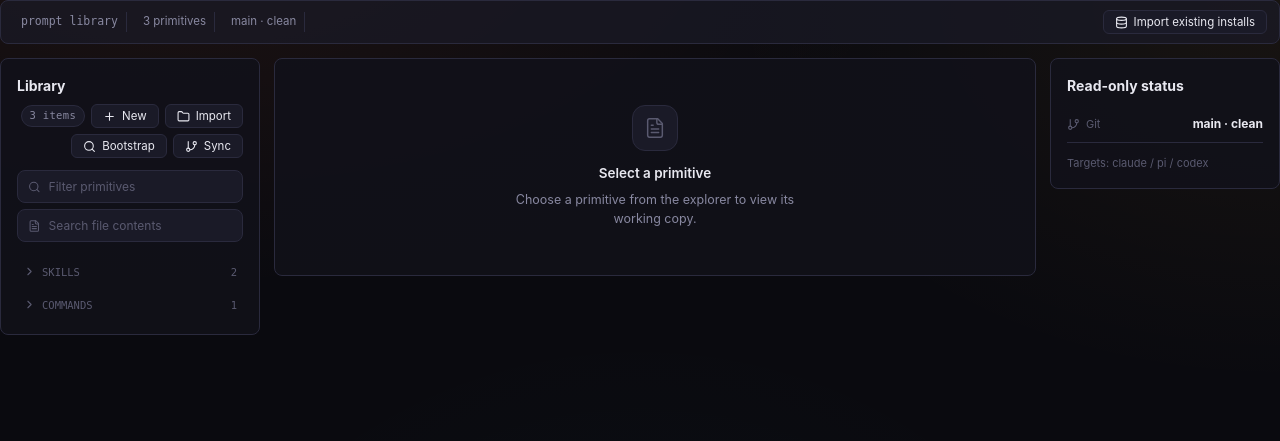
Test: Library route — explorer, collapse, selection, detail › the explorer badge shows an empty state (—) when a filter matches nothing
Filter that matches nothing
Type "zzz" into the field with placeholder "Filter primitives" at [140, 186], box [49,179,232,194]
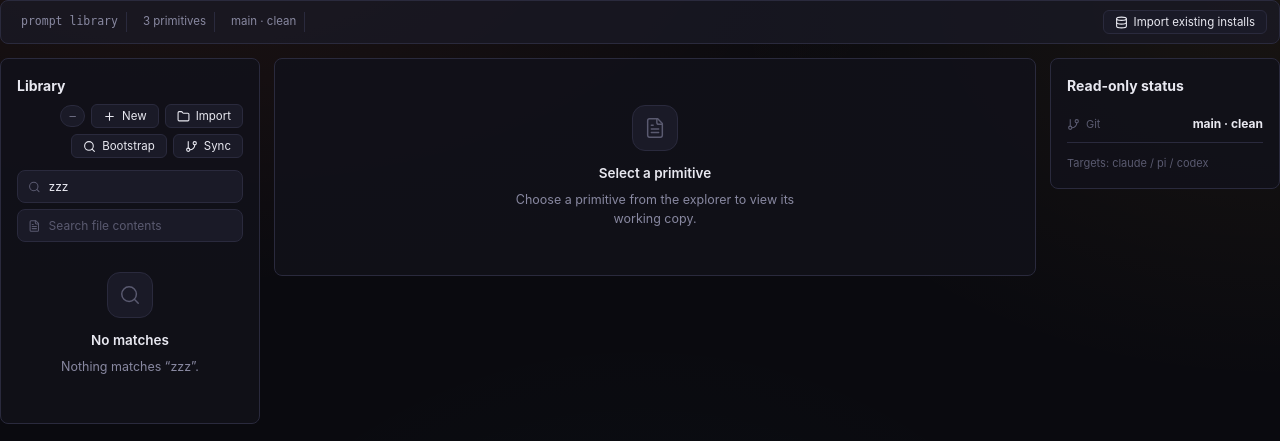
Check: the text "—" is shown, box [60,105,85,127]
